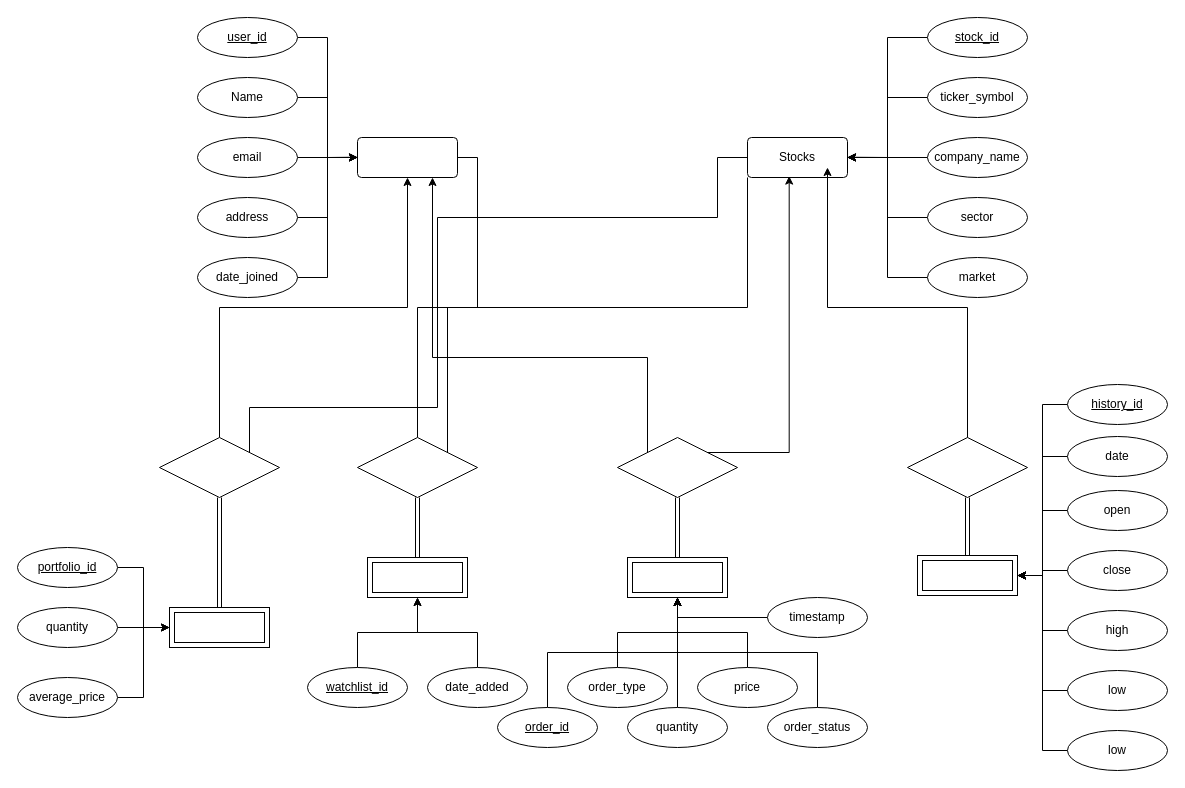
This 1185x788 diagram has some shape labels left out. The centre of each missing label's shape, as x and y in pixels:
hasHistory: point 967,467
hasOrder: point 677,467
hasPortfolio: point 219,467
hasWatchlist: point 417,467
MarketOrder: point 677,577
Portfolio: point 219,627
StockHistory: point 967,575
User: point 407,157
Watchlist: point 417,577
